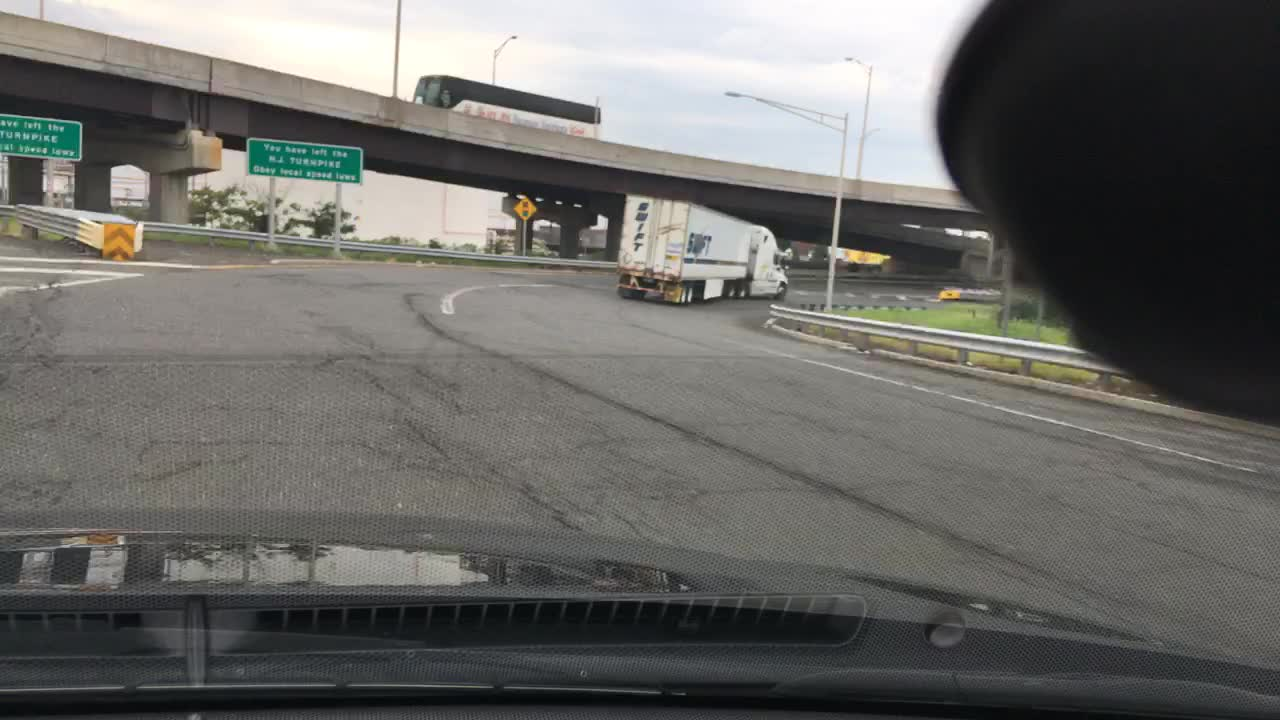car: (938, 286, 961, 301)
traffic sign: (244, 136, 363, 183), (0, 112, 83, 161), (514, 197, 536, 220)
truck: (616, 192, 792, 307)
